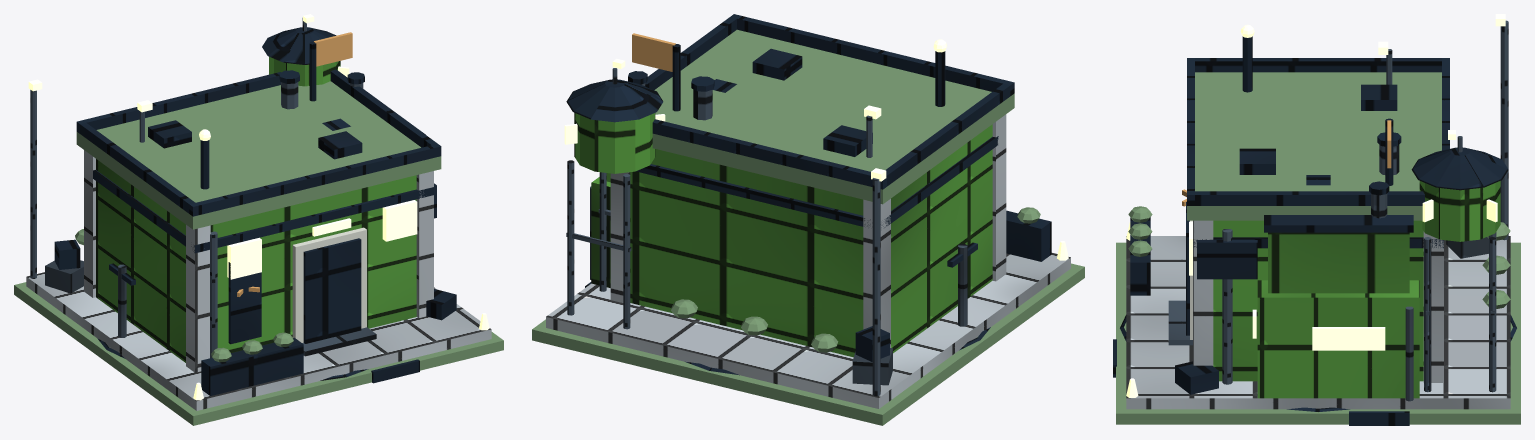
Rendered from MarineFoundry.fbx.
3 views of the same model, side by side, from view 1: azimuth 30°, elevation 25°; view 2: azimuth 150°, elevation 25°; view 3: azimuth 270°, elevation 25° (orthographic). The views are drawn at different scales.
Visible parts, largest first — view 1: Marine_Block, Marine_Roof, Marine_Tier, Marine_Plinth, Marine_Door, Marine_Barrier, Marine_Parapet_F, Marine_Band, Marine_Pilaster_-72-56, Marine_Parapet_B, Marine_DoorFrame, Marine_Pilaster_+72-56 (+22 smaller); view 2: Marine_Block, Marine_Roof, Marine_Tier, Marine_Plinth, Marine_Band, Marine_Parapet_F, Marine_WatchCab, Marine_Parapet_B, Marine_WatchRoof, Marine_Pilaster_-72+56, Marine_Pilaster_-72-56, Marine_Parapet_L (+17 smaller); view 3: Marine_Roof, Marine_Tier, Marine_Annex, Marine_Plinth, Marine_AnnexTop, Marine_Block, Marine_WatchCab, Marine_Parapet_L, Marine_Parapet_R, Marine_WatchRoof, Marine_AnnexRoof, Marine_Vent (+24 smaller).
Part boxes in pixels (bbox=[...]): Marine_Block: bbox=[96, 159, 416, 362]; Marine_Roof: bbox=[76, 81, 441, 229]; Marine_Tier: bbox=[26, 272, 491, 410]; Marine_Plinth: bbox=[14, 282, 503, 425]; Marine_Door: bbox=[303, 238, 361, 343]; Marine_Barrier: bbox=[201, 337, 303, 395]; Marine_Parapet_F: bbox=[189, 143, 441, 216]; Marine_Band: bbox=[93, 170, 433, 253]; Marine_Pilaster_-72-56: bbox=[186, 225, 210, 372]; Marine_Parapet_B: bbox=[76, 72, 280, 133]; Marine_DoorFrame: bbox=[292, 227, 366, 342]; Marine_Pilaster_+72-56: bbox=[416, 171, 433, 318]; Marine_Block: bbox=[630, 124, 992, 357]; Marine_Roof: bbox=[652, 29, 1014, 204]; Marine_Tier: bbox=[546, 253, 1070, 408]; Marine_Plinth: bbox=[532, 263, 1084, 425]; Marine_Band: bbox=[636, 136, 998, 227]; Marine_Parapet_F: bbox=[730, 14, 1014, 95]; Marine_WatchCab: bbox=[574, 113, 655, 173]; Marine_Parapet_B: bbox=[652, 119, 886, 189]; Marine_WatchRoof: bbox=[566, 79, 663, 122]; Marine_Pilaster_-72+56: bbox=[863, 199, 890, 347]; Marine_Pilaster_-72-56: bbox=[992, 114, 1006, 281]; Marine_Parapet_L: bbox=[885, 83, 1010, 186]; Marine_Roof: bbox=[1187, 72, 1441, 220]; Marine_Tier: bbox=[1126, 236, 1510, 409]; Marine_Annex: bbox=[1257, 280, 1419, 398]; Marine_Plinth: bbox=[1116, 242, 1520, 424]; Marine_AnnexTop: bbox=[1268, 232, 1409, 293]; Marine_Block: bbox=[1213, 220, 1423, 381]; Marine_WatchCab: bbox=[1419, 181, 1500, 241]; Marine_Parapet_L: bbox=[1195, 58, 1441, 72]; Marine_Parapet_R: bbox=[1195, 191, 1424, 205]; Marine_WatchRoof: bbox=[1411, 147, 1508, 190]; Marine_AnnexRoof: bbox=[1264, 215, 1413, 232]; Marine_Vent: bbox=[1197, 240, 1257, 279].
Size of the model in its own units: 2.01 by 1.46 by 2.02.
